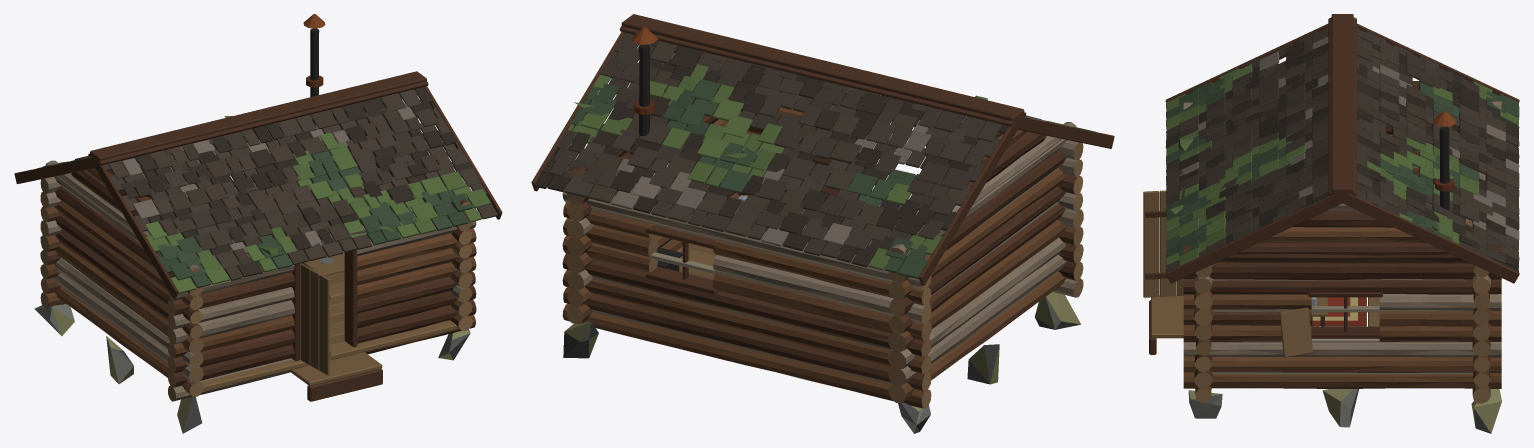
The model's file is cabin.glb.
3 views of the same model, side by side, from view 1: azimuth 30°, elevation 25°; view 2: azimuth 150°, elevation 25°; view 3: azimuth 270°, elevation 25° (orthographic). The views are drawn at different scales.
Visible parts, largest first — view 1: cabin-roof, cabin-wall-front, cabin-wall-left, cabin-floor, cabin-wall-back, cabin-wall-right, cabin-inside; view 2: cabin-roof, cabin-wall-back, cabin-wall-left, cabin-floor, cabin-wall-front, cabin-wall-right; view 3: cabin-roof, cabin-wall-right, cabin-wall-front, cabin-floor, cabin-wall-back, cabin-inside, cabin-wall-left.
Part boxes in pixels (x1,y1,x2,y2): cabin-roof: [14, 14, 502, 298]; cabin-wall-front: [167, 200, 476, 401]; cabin-wall-left: [45, 160, 203, 396]; cabin-floor: [34, 251, 470, 433]; cabin-wall-back: [40, 126, 329, 308]; cabin-wall-right: [324, 99, 473, 331]; cabin-inside: [148, 186, 344, 276]; cabin-roof: [531, 14, 1114, 285]; cabin-wall-back: [562, 166, 931, 408]; cabin-wall-left: [887, 122, 1076, 403]; cabin-floor: [563, 219, 1080, 433]; cabin-wall-front: [737, 66, 1083, 297]; cabin-wall-right: [566, 53, 741, 324]; cabin-roof: [1165, 14, 1519, 283]; cabin-wall-right: [1183, 203, 1501, 388]; cabin-wall-front: [1143, 190, 1212, 403]; cabin-floor: [1149, 295, 1501, 433]; cabin-wall-back: [1472, 172, 1490, 403]; cabin-inside: [1311, 218, 1472, 326]; cabin-wall-left: [1183, 81, 1501, 176].
Size of the model in its own units: 6.71 by 5.35 by 6.09.
